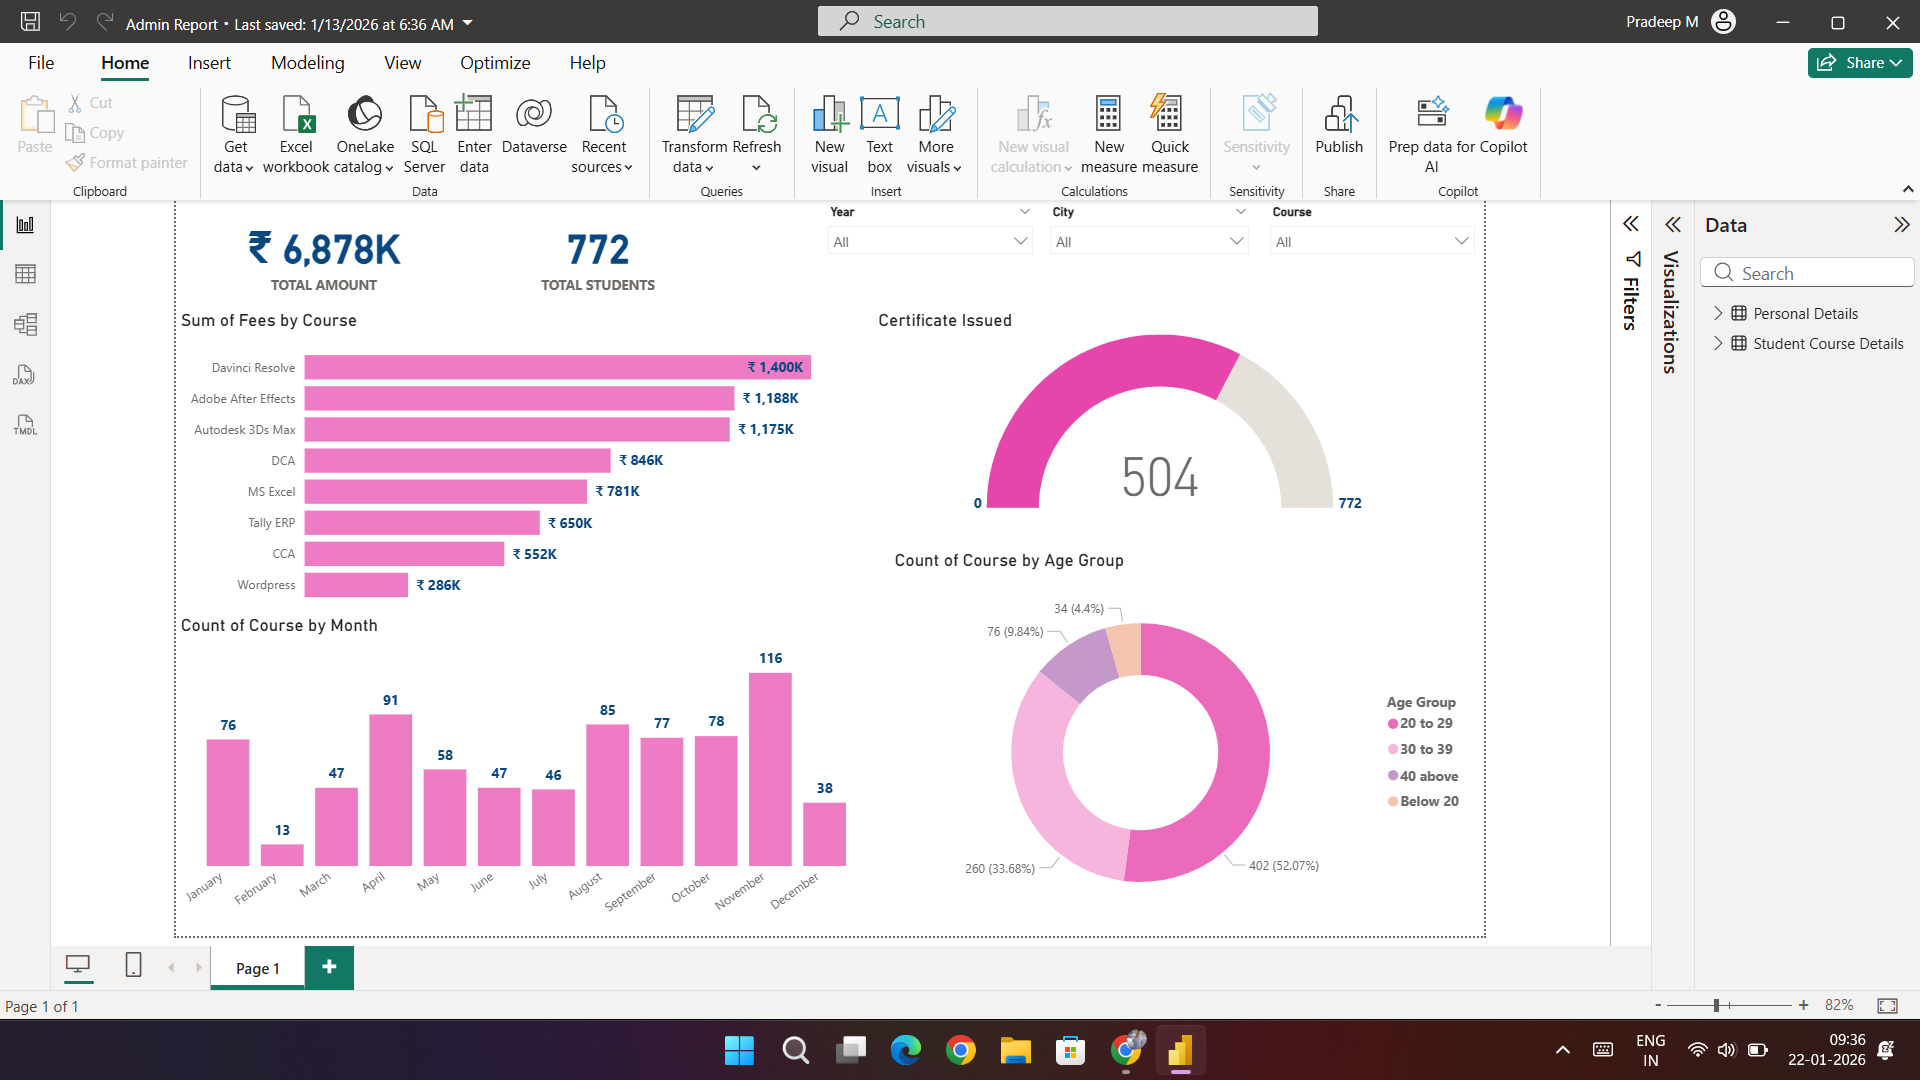

The dashboard page shown, as its layout file describes it:
{"tool":"powerbi","page":{"name":"Page 1","canvas":[1280,720],"ordinal":0},"visuals":[{"type":"clusteredColumnChart","fields":{"Category":["Student Course Details.Date of Join.Variation.Date Hierarchy.Year","Student Course Details.Date of Join.Variation.Date Hierarchy.Quarter","Student Course Details.Date of Join.Variation.Date Hierarchy.Month","Student Course Details.Date of Join.Variation.Date Hierarchy.Day"],"Y":["CountNonNull(Student Course Details.Course)"]},"box":[0,406.2,682.5,313.8],"z":0},{"type":"donutChart","fields":{"Y":["CountNonNull(Student Course Details.Course)"],"Category":["Student Course Details.Age Group"]},"box":[698.8,342.5,581.2,377.5],"z":1000},{"type":"clusteredBarChart","fields":{"Category":["Student Course Details.Course"],"Y":["Sum(Student Course Details.Fees)"]},"box":[0,107.5,682.5,298.8],"z":2000},{"type":"card","fields":{"Values":["Sum(Student Course Details.Fees)"]},"box":[0,0,290,107.5],"z":3000},{"type":"card","fields":{"Values":["CountNonNull(Student Course Details.Student Name)"]},"box":[256.2,0,312.5,107.5],"z":4000},{"type":"gauge","fields":{"Y":["Personal Details.YesCount"]},"box":[682.5,107.5,576.2,203.8],"z":5000},{"type":"slicer","fields":{"Values":["Student Course Details.Date of Join.Variation.Date Hierarchy.Year"]},"box":[627.5,0,221.2,70],"z":6000},{"type":"slicer","fields":{"Values":["Personal Details.City"]},"box":[845,0,215,70],"z":7000},{"type":"slicer","fields":{"Values":["Student Course Details.Course"]},"box":[1060,0,220,70],"z":8000}]}

Visuals, with their boxes on the page's 1280x720 design canvas (x1, y1, x2, y2). These are canvas units, not pixel positions in the 1920x1080 screenshot, which may show the page scaled, cropped or inside an application window:
clusteredColumnChart - Student Course Details.Date of Join.Variation.Date Hierarchy.Year x Student Course Details.Date of Join.Variation.Date Hierarchy.Quarter: x1=0, y1=406, x2=682, y2=720
donutChart - CountNonNull(Student Course Details.Course) x Student Course Details.Age Group: x1=699, y1=342, x2=1280, y2=720
clusteredBarChart - Student Course Details.Course x Sum(Student Course Details.Fees): x1=0, y1=108, x2=682, y2=406
card - Sum(Student Course Details.Fees): x1=0, y1=0, x2=290, y2=108
card - CountNonNull(Student Course Details.Student Name): x1=256, y1=0, x2=569, y2=108
gauge - Personal Details.YesCount: x1=682, y1=108, x2=1259, y2=311
slicer - Student Course Details.Date of Join.Variation.Date Hierarchy.Year: x1=628, y1=0, x2=849, y2=70
slicer - Personal Details.City: x1=845, y1=0, x2=1060, y2=70
slicer - Student Course Details.Course: x1=1060, y1=0, x2=1280, y2=70
